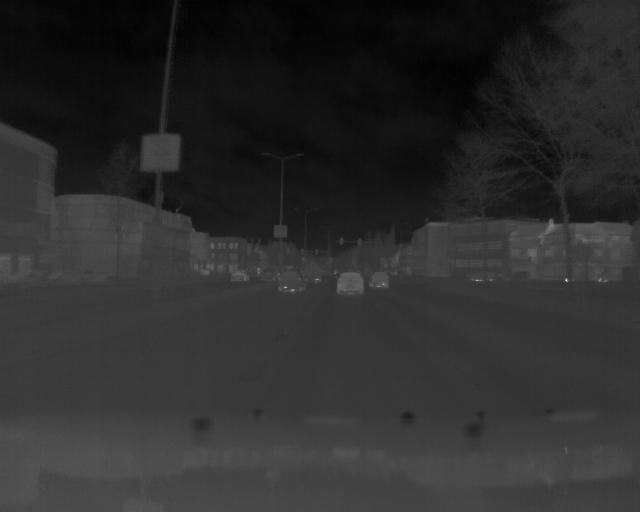car: (336, 270, 365, 298), (279, 270, 307, 296), (232, 269, 252, 283)
